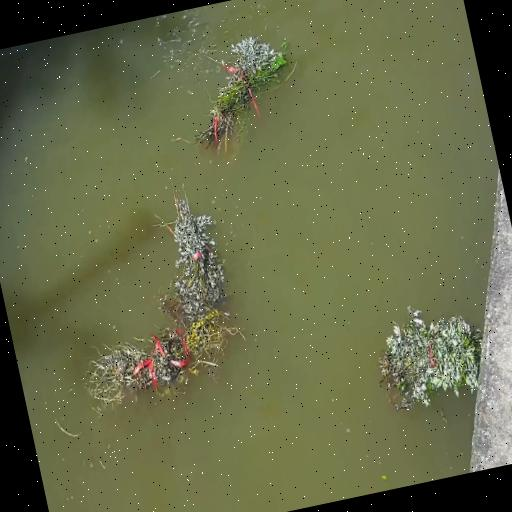twig: (76, 304, 248, 412), (173, 28, 303, 158), (366, 292, 494, 418), (142, 176, 232, 322)
